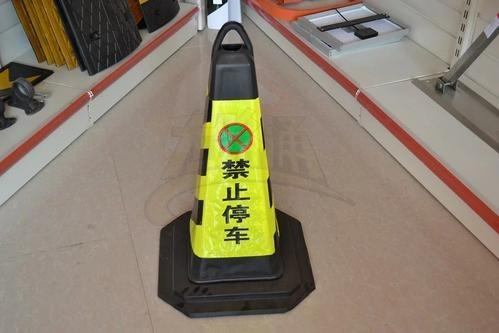cone_barrel: (170, 23, 291, 289)
